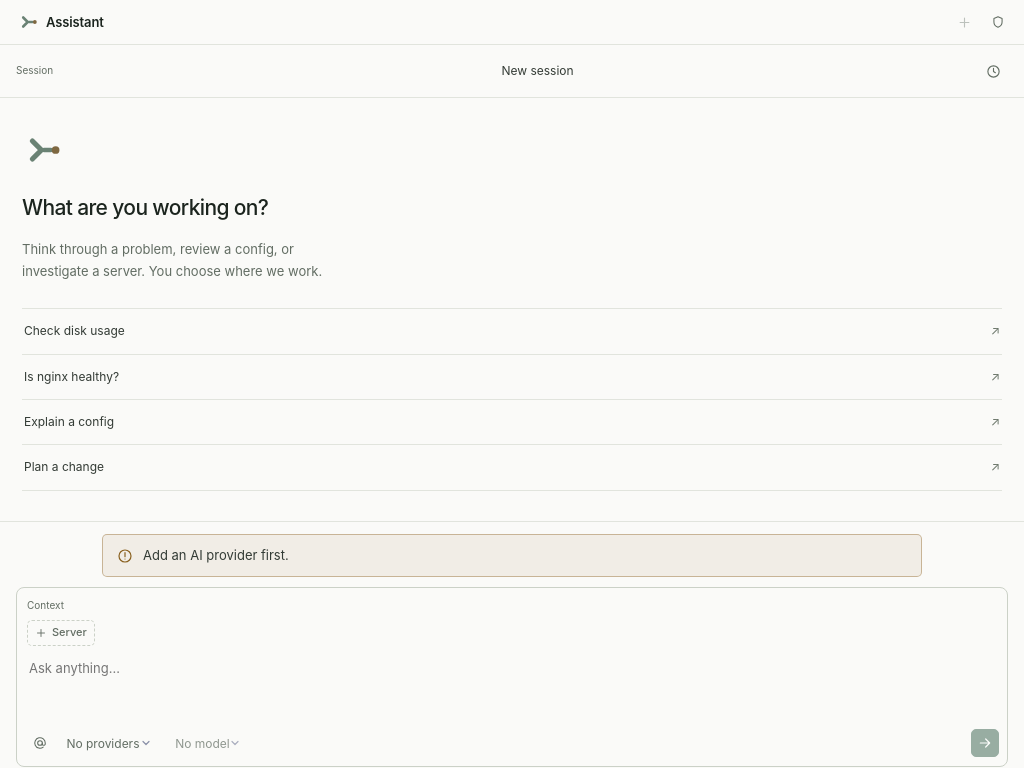
Test: AgentPanel › chooses the host with @ and starts the task on that host and provider
Step 1. Type "@prod" into the text box named "Request" → (512, 684), box x1=17 y1=646 x2=1007 y2=722
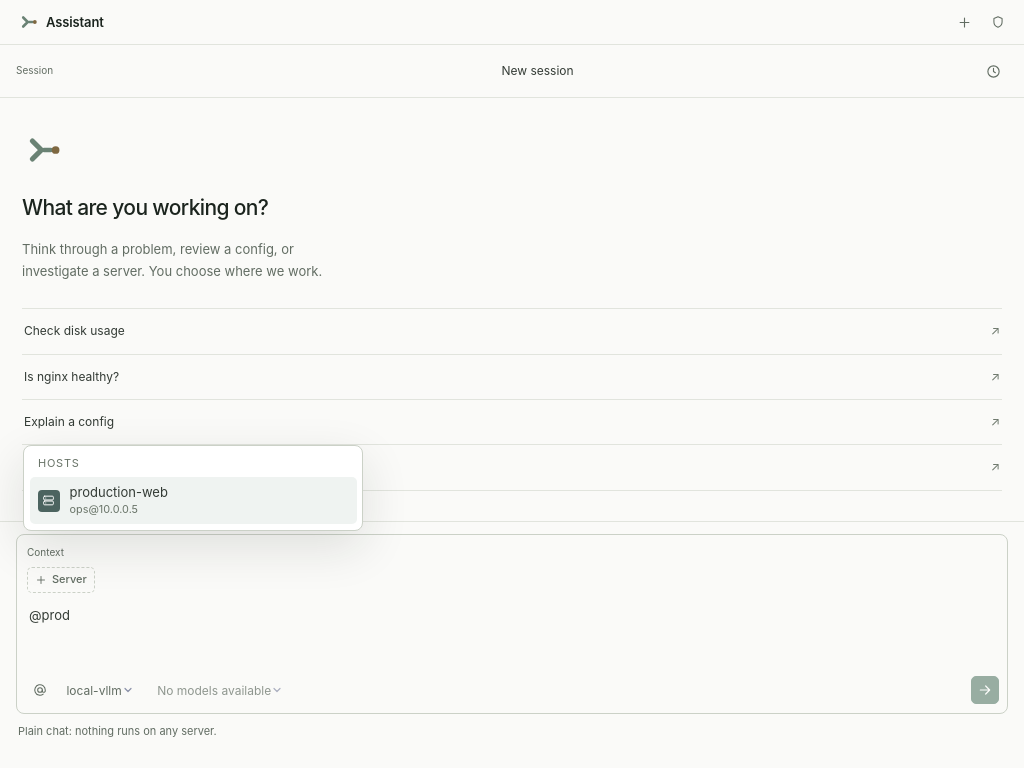
Step 2. Click the button "production-web ops@10.0.0.5" → (119, 492), box x1=30 y1=477 x2=357 y2=524
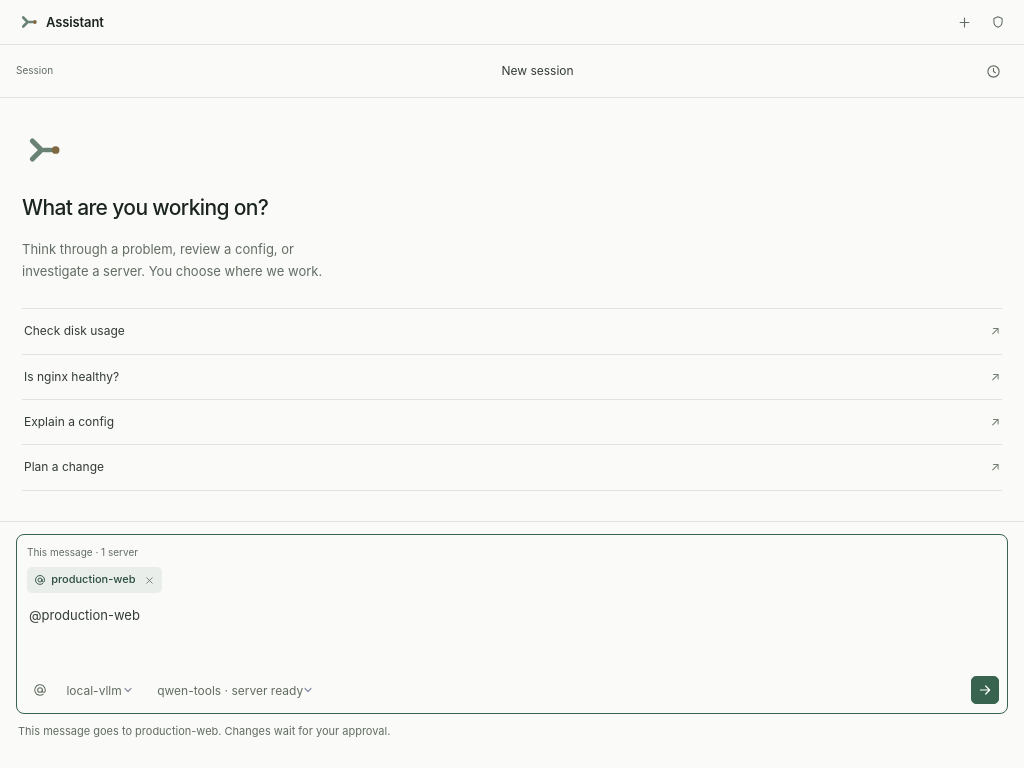
Expected: the button named "Remove production-web" is shown, x1=140 y1=571 x2=158 y2=589
Expected: the text box named "Request" holds "@production-web "
Step 3. Replace the text in the text box named "Request" with "@production-web check disk usage" → (512, 631), box x1=17 y1=593 x2=1007 y2=669
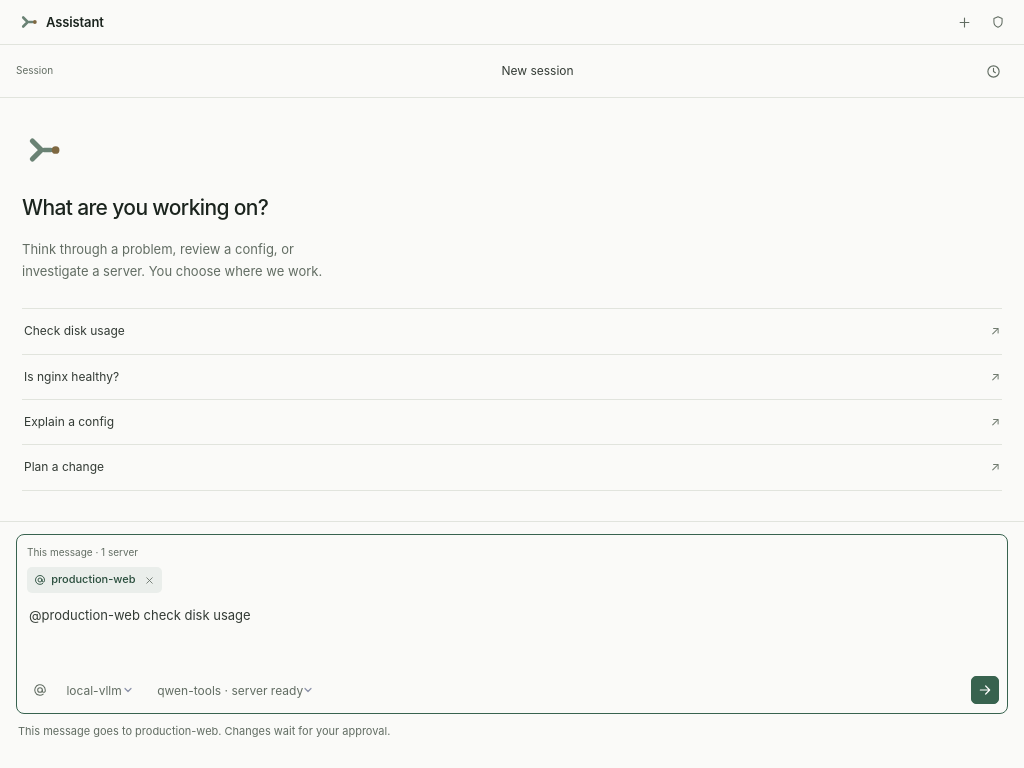
Expected: the button named "Send" is enabled
Step 4. Click the button named "Send" → (985, 690), box x1=971 y1=676 x2=999 y2=704
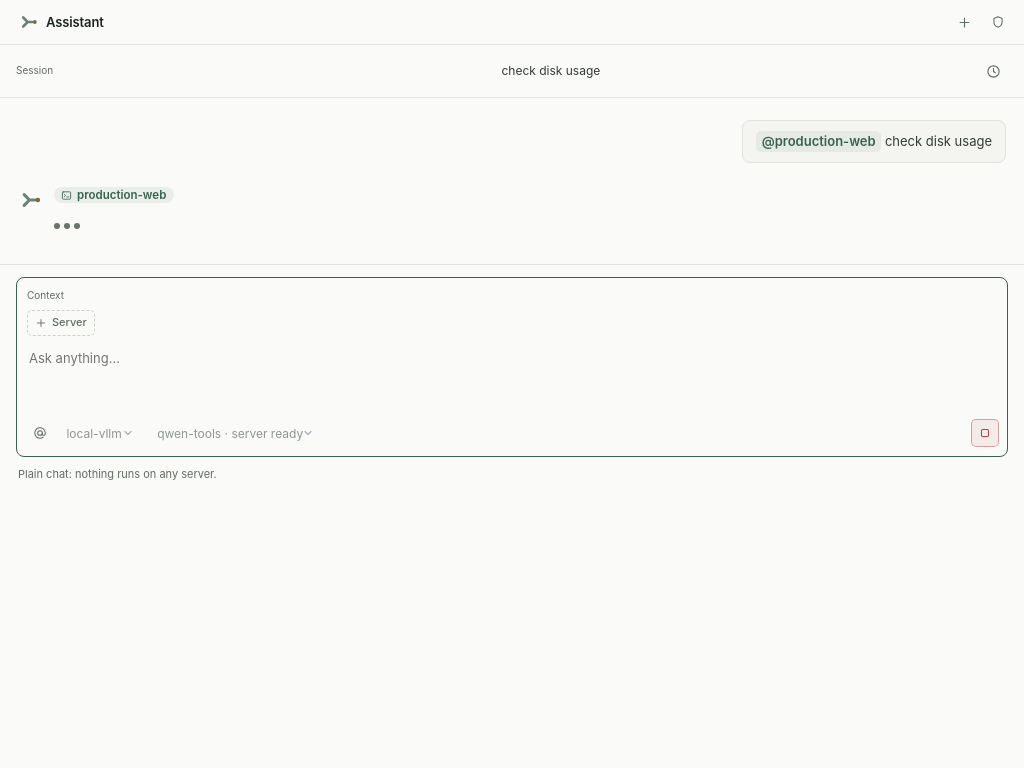
Expected: the text "@production-web" is shown, x1=756 y1=131 x2=881 y2=152
